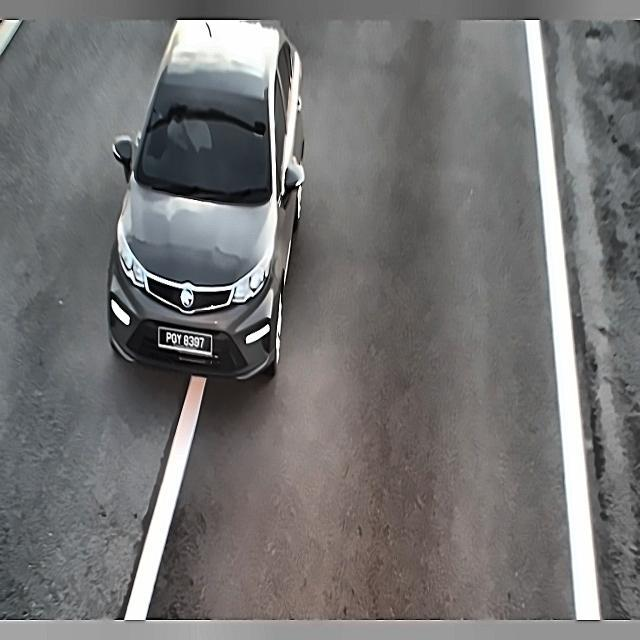car: (154, 321, 218, 363)
